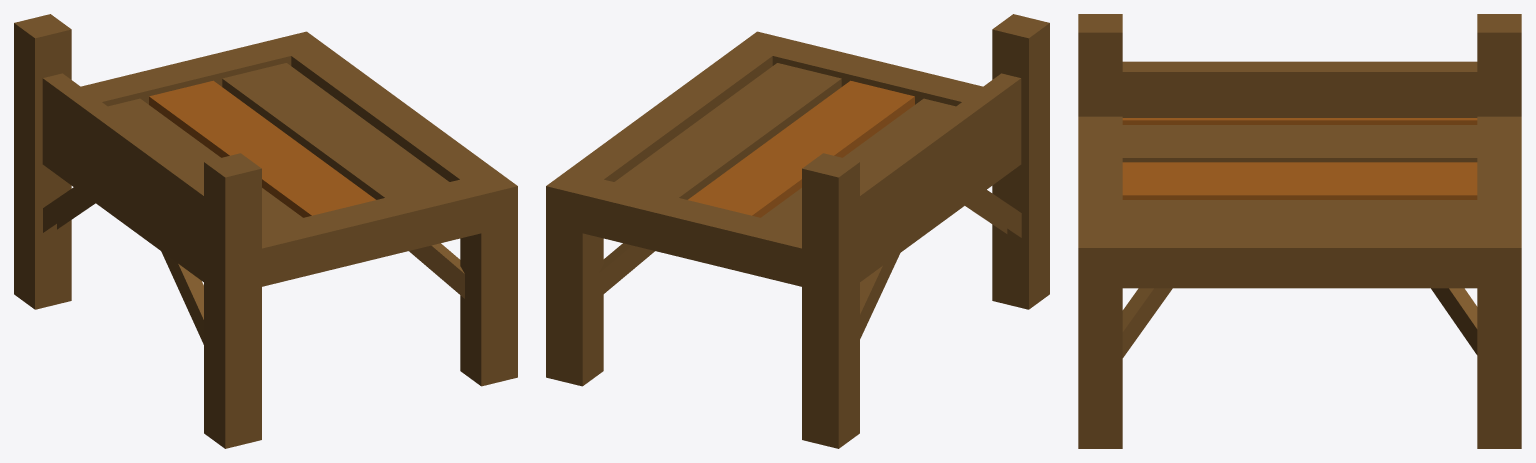
The model's file is ThreeWayFilled.fbx.
3 views of the same model, side by side, from view 1: azimuth 30°, elevation 25°; view 2: azimuth 150°, elevation 25°; view 3: azimuth 270°, elevation 25° (orthographic). The views are drawn at different scales.
Parts seen in each view (by area): view 1: Bridge - Three-way Filled; view 2: Bridge - Three-way Filled; view 3: Bridge - Three-way Filled.
Part boxes in pixels (bbox=[...]): Bridge - Three-way Filled: bbox=[14, 14, 517, 448]; Bridge - Three-way Filled: bbox=[546, 14, 1049, 448]; Bridge - Three-way Filled: bbox=[1078, 14, 1521, 448].
Bounding box in the file's own units: 80 × 70.89 × 100.
